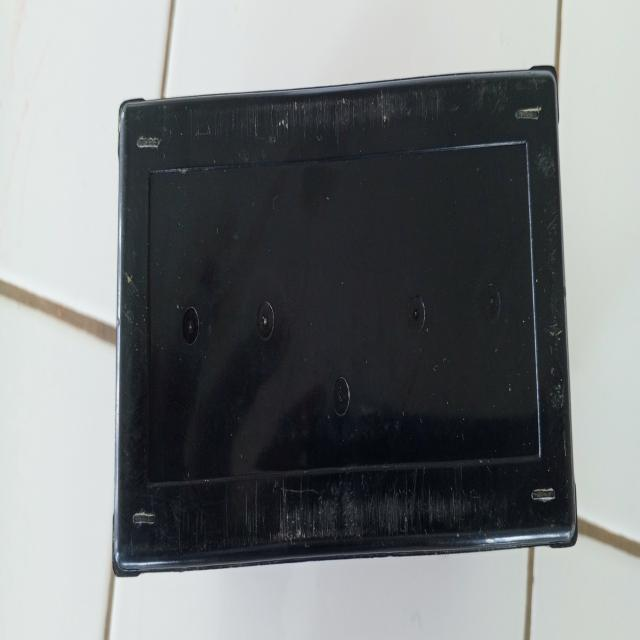Dry Cell: (101, 47, 590, 573)
